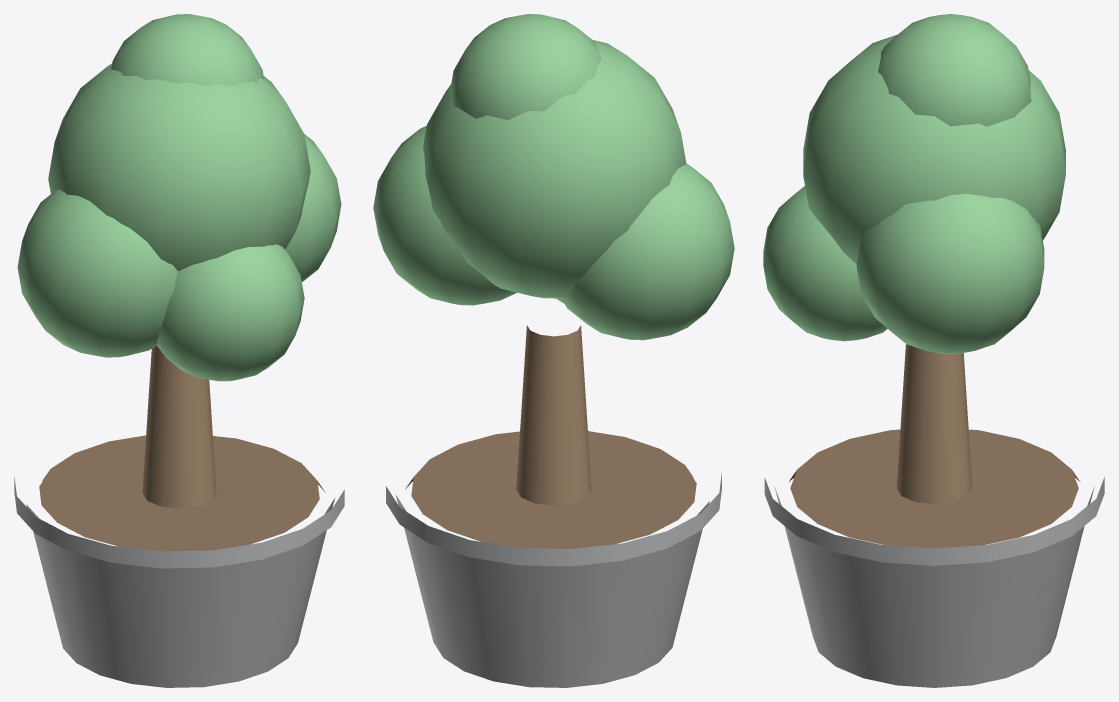
Rendered from plant-arvore.glb.
3 renders of one model, left to right at view 1: azimuth 30°, elevation 25°; view 2: azimuth 150°, elevation 25°; view 3: azimuth 270°, elevation 25°, orthographic. The views are drawn at different scales.
Visible parts, largest first — view 1: Copa, Vaso, Terra, Tronco; view 2: Copa, Vaso, Terra, Tronco; view 3: Copa, Vaso, Terra, Tronco.
Boxes of the visible parts, x1=… form: Copa: x1=17, y1=14, x2=341, y2=381; Vaso: x1=14, y1=476, x2=344, y2=687; Terra: x1=39, y1=435, x2=325, y2=551; Tronco: x1=142, y1=345, x2=216, y2=508; Copa: x1=373, y1=14, x2=734, y2=340; Vaso: x1=386, y1=473, x2=721, y2=687; Terra: x1=405, y1=431, x2=696, y2=548; Tronco: x1=516, y1=325, x2=591, y2=505; Copa: x1=763, y1=14, x2=1065, y2=354; Vaso: x1=764, y1=477, x2=1104, y2=687; Terra: x1=789, y1=429, x2=1080, y2=548; Tronco: x1=896, y1=344, x2=972, y2=504.
Size of the model in its own units: 1.16 by 2.14 by 1.06.
